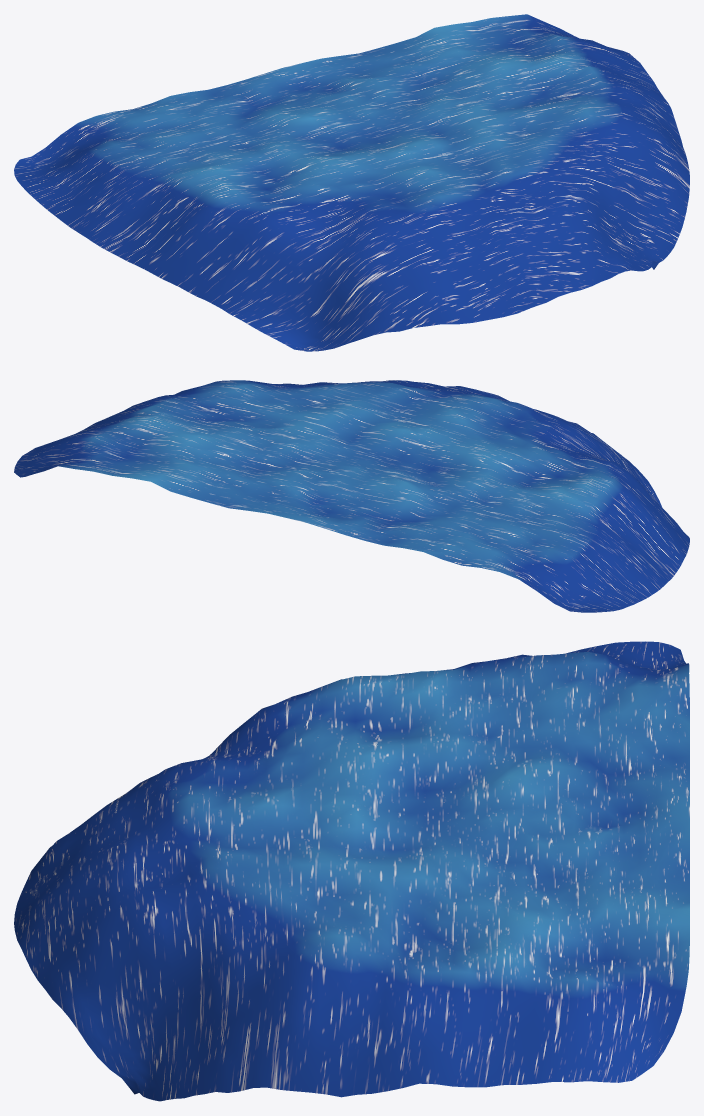
File: Beach1Water.glb
3 renders of one model, top to bottom at view 1: azimuth 30°, elevation 25°; view 2: azimuth 150°, elevation 25°; view 3: azimuth 270°, elevation 25°, orthographic. The views are drawn at different scales.
Parts seen in each view (by area): view 1: Circle; view 2: Circle; view 3: Circle.
Boxes of the visible parts, x1,y1,x2,y2 form: Circle: (14,14,689,351); Circle: (14,380,689,612); Circle: (14,641,689,1101).
Bounding box in the file's own units: 10.53 × 1.88 × 7.01.
Materials: 1 (1 with a texture image).
